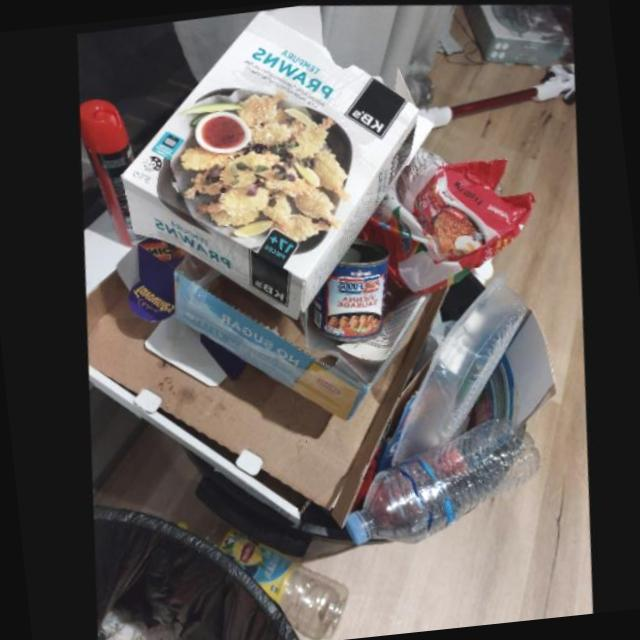bao_bi_thuc_pham: (351, 146, 534, 293)
carton: (119, 3, 451, 319), (83, 268, 441, 524)
chai_nhua_pet: (338, 418, 534, 544), (170, 519, 342, 639)
hop_nhua: (386, 270, 527, 465)
nhom: (78, 96, 144, 245), (305, 236, 387, 341)
